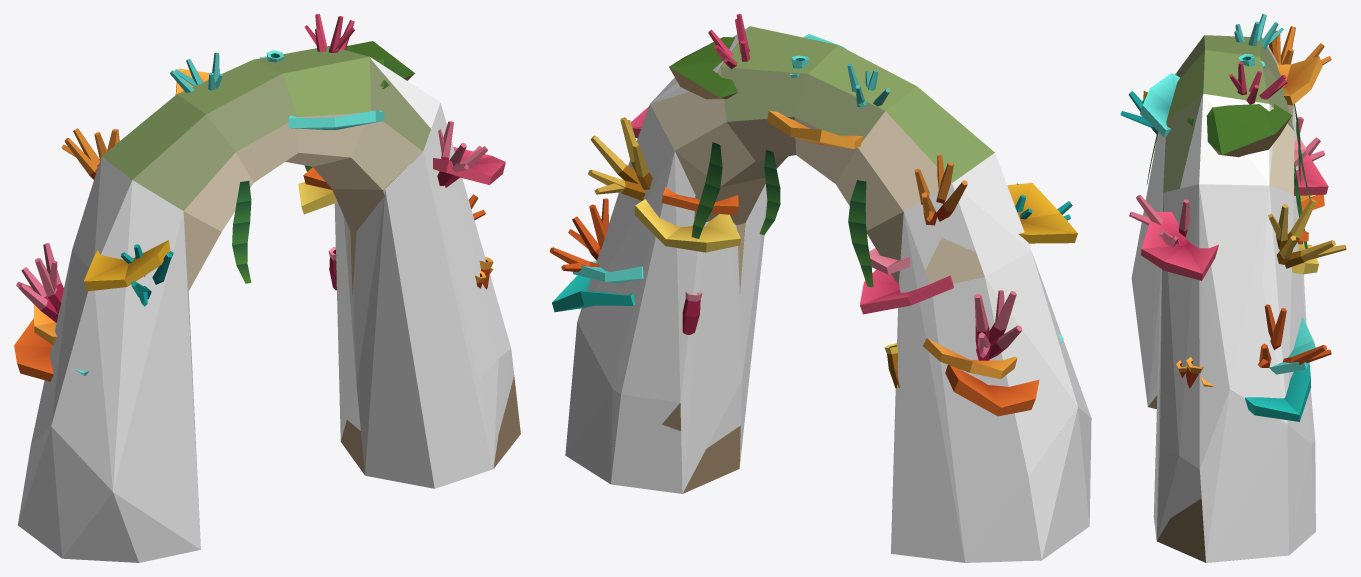
Rendered from giant_tidal_coral_arch.glb.
The picture shows the model from 3 angles, left to right: view 1: azimuth 30°, elevation 25°; view 2: azimuth 150°, elevation 25°; view 3: azimuth 270°, elevation 25°; orthographic projection. The views are drawn at different scales.
Visible parts, largest first — view 1: GiantTidalCoralArch, col_coral_left, col_coral_right; view 2: GiantTidalCoralArch, col_coral_left, col_coral_right; view 3: col_coral_right, GiantTidalCoralArch, col_coral_left.
Part boxes in pixels (box(x1,y1,x2,y2)): GiantTidalCoralArch: box(14, 14, 520, 474); col_coral_left: box(18, 156, 200, 562); col_coral_right: box(334, 49, 514, 488); GiantTidalCoralArch: box(549, 14, 1077, 493); col_coral_left: box(891, 153, 1091, 562); col_coral_right: box(565, 26, 767, 493); col_coral_right: box(1153, 94, 1315, 562); GiantTidalCoralArch: box(1120, 14, 1346, 562); col_coral_left: box(1131, 105, 1306, 406).
Size of the model in its own units: 10.9 by 10.03 by 4.73.
